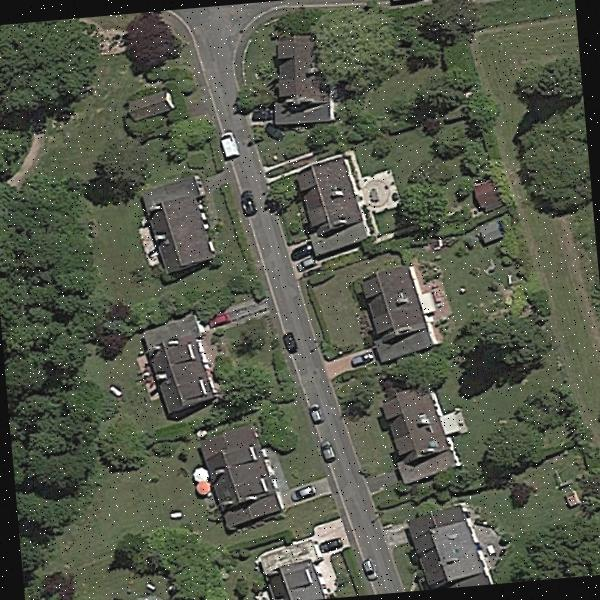Buildings: (374, 386, 466, 480), (133, 316, 218, 414), (138, 170, 209, 277), (205, 417, 271, 531), (409, 496, 481, 591), (262, 31, 330, 130), (298, 158, 373, 243), (370, 270, 430, 358), (268, 553, 325, 600), (123, 94, 170, 120), (474, 184, 499, 200)
